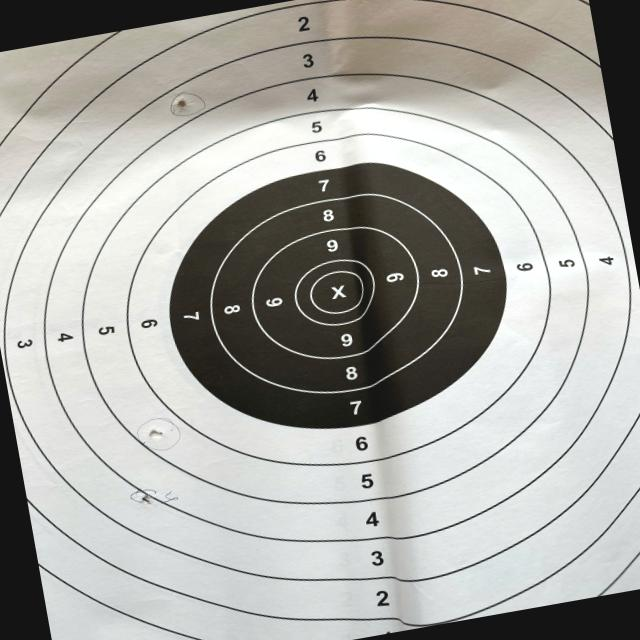bullet: (148, 428, 162, 440), (175, 97, 188, 108), (141, 494, 154, 504)
target: (0, 0, 640, 640)
